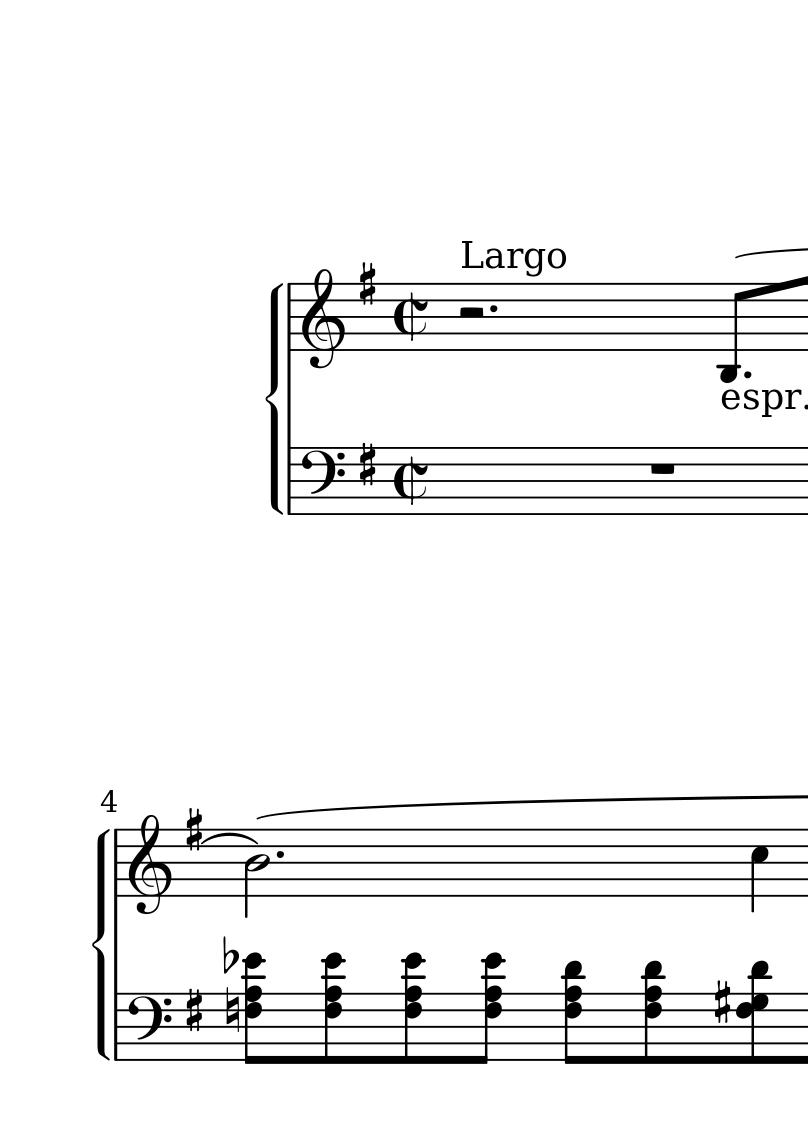2_4: (242, 827, 273, 918)
4: (99, 787, 119, 815)
4_5: (749, 826, 772, 915)
8_-3: (717, 281, 744, 384)
8_th: (471, 951, 509, 1065), (734, 957, 775, 1059), (395, 951, 429, 1065), (558, 957, 589, 1066), (319, 950, 348, 1063), (637, 959, 667, 1064), (241, 950, 268, 1063)
Brace: (89, 826, 108, 1063), (265, 281, 284, 516)
Fclef: (127, 992, 175, 1062), (300, 450, 349, 492)
Flat: (221, 935, 240, 974)
Gclef: (304, 268, 347, 369), (131, 813, 174, 913)
Natural: (222, 988, 241, 1033)
Rests1: (643, 459, 676, 480)
Rests2: (453, 304, 492, 322)
Sharp: (356, 259, 383, 311), (355, 439, 381, 485), (714, 979, 736, 1027), (183, 988, 206, 1033), (185, 808, 206, 853)
Single_barline: (283, 447, 300, 515), (283, 283, 300, 349), (110, 993, 126, 1061), (110, 829, 126, 896)
Slur: (199, 831, 259, 848)
TimeSig: (396, 281, 431, 352), (394, 282, 429, 352), (393, 443, 428, 513), (395, 447, 429, 516)
dot: (274, 848, 287, 863), (489, 300, 501, 316), (743, 367, 754, 384)
